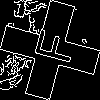F: (25, 25, 77, 66)
